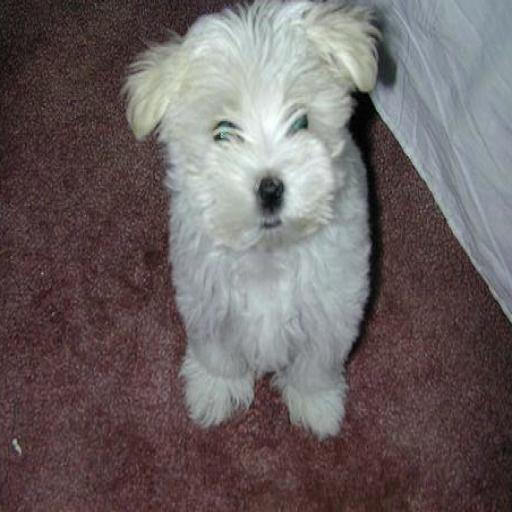dog_face: (126, 0, 369, 247)
